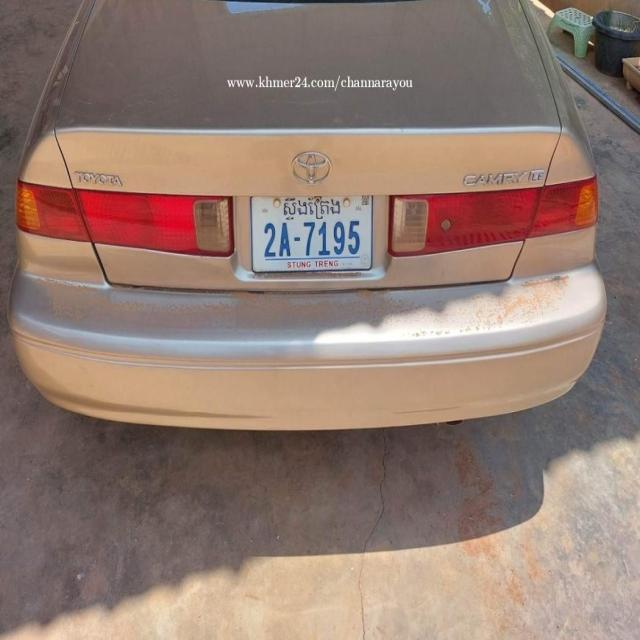Stung_Treng: (283, 197, 340, 221)
